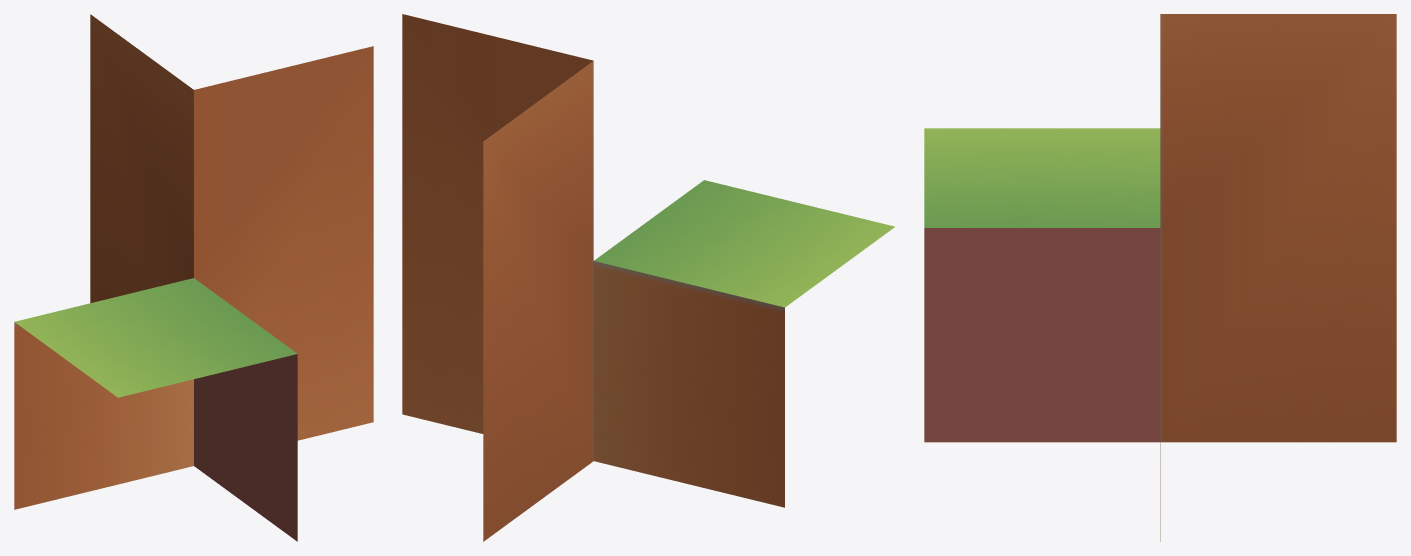
The picture shows the model from 3 angles, left to right: view 1: azimuth 30°, elevation 25°; view 2: azimuth 150°, elevation 25°; view 3: azimuth 270°, elevation 25°; orthographic projection. The views are drawn at different scales.
Parts seen in each view (by area): view 1: 00010101; view 2: 00010101; view 3: 00010101.
Part boxes in pixels (box(x1,y1,x2,y2)): 00010101: box(14, 14, 373, 541); 00010101: box(402, 14, 894, 541); 00010101: box(924, 14, 1396, 541).
Size of the model in its own units: 1 by 1 by 1.
Materials: 1 (1 with a texture image).
